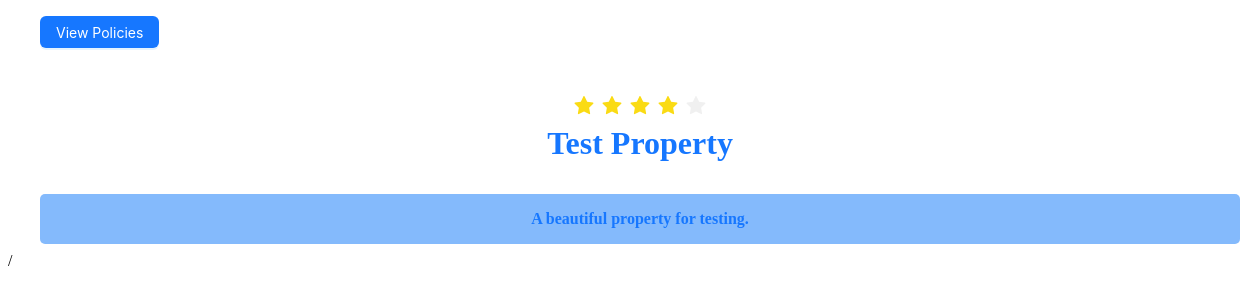
PropertyHeader › navigates to policies when 'View Policies' is clicked
Click the button "View Policies".
click(100, 32)  # box x1=40 y1=16 x2=159 y2=48
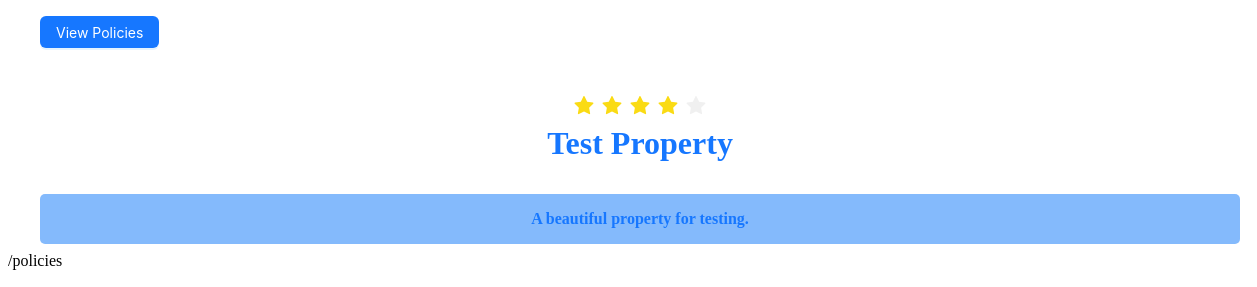
Now the text with test id "location-display" reads "/policies", box x1=8 y1=252 x2=62 y2=268
